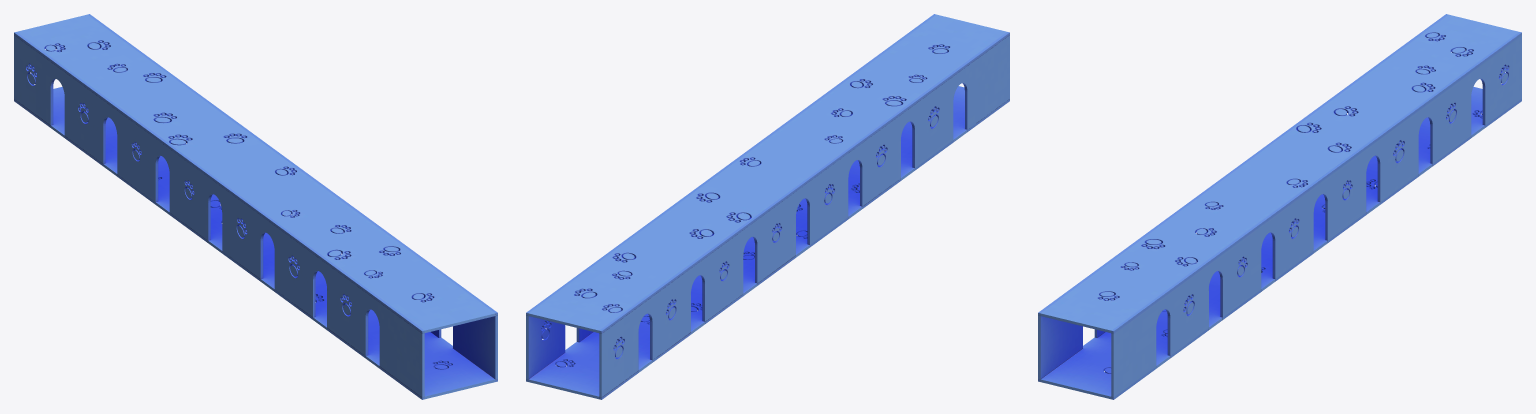
File: paw_corridor.glb
The picture shows the model from 3 angles, left to right: view 1: azimuth 30°, elevation 25°; view 2: azimuth 150°, elevation 25°; view 3: azimuth 330°, elevation 25°; orthographic projection.
Parts seen in each view (by area): view 1: hall_ceiling, hall_left, hall_floor, hall_right; view 2: hall_ceiling, hall_left, hall_floor, hall_right; view 3: hall_ceiling, hall_right, hall_floor, hall_left.
Boxes of the visible parts, x1,y1,x2,y2 form: hall_ceiling: (14,14,497,333); hall_left: (14,34,424,399); hall_floor: (14,86,497,399); hall_right: (88,46,497,379); hall_ceiling: (526,14,1009,333); hall_left: (599,34,1009,399); hall_floor: (526,86,1009,399); hall_right: (526,52,933,380); hall_ceiling: (1038,14,1521,333); hall_right: (1111,33,1521,399); hall_floor: (1038,86,1485,399); hall_left: (1038,89,1425,381).
Size of the model in its own units: 7.5 by 6.5 by 70.
Materials: 4 (4 with a texture image).
